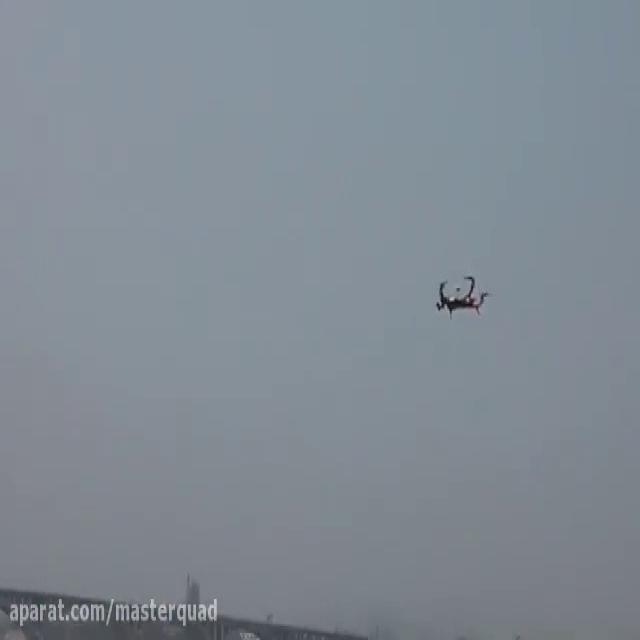drone: (431, 265, 494, 322)
